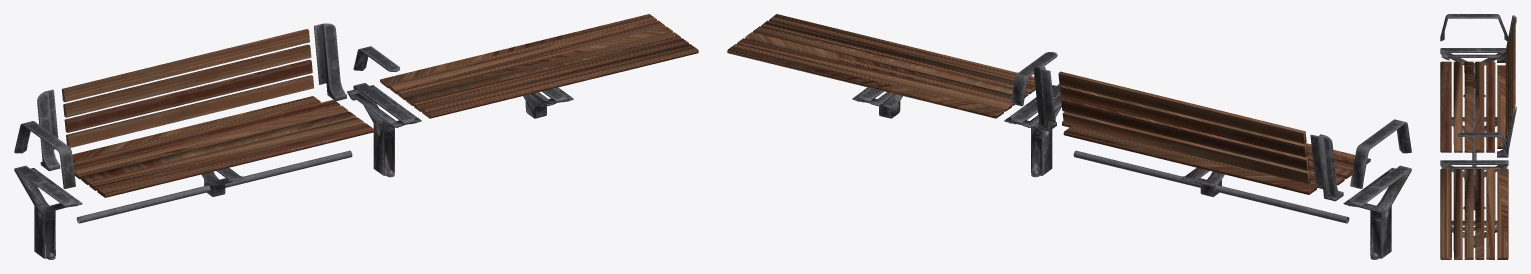
The model's file is street_seating.glb.
The picture shows the model from 3 angles, left to right: view 1: azimuth 30°, elevation 25°; view 2: azimuth 150°, elevation 25°; view 3: azimuth 270°, elevation 25°; orthographic projection. The views are drawn at different scales.
Parts seen in each view (by area): view 1: seat, seat_back, crossbar, legs_double; view 2: seat, seat_back, crossbar, legs_double; view 3: seat, legs_double, crossbar, seat_back.
Boxes of the visible parts, x1,y1,x2,y2 form: seat: (72, 14, 698, 197); seat_back: (62, 29, 313, 147); crossbar: (14, 23, 399, 223); legs_double: (14, 83, 573, 259); seat: (727, 14, 1370, 194); seat_back: (1058, 71, 1310, 183); crossbar: (1010, 52, 1411, 223); legs_double: (852, 84, 1411, 259); seat: (1440, 61, 1508, 259); legs_double: (1440, 48, 1508, 247); crossbar: (1440, 14, 1516, 174); seat_back: (1505, 23, 1515, 140).
Bounding box in the file's own units: 4.34 × 0.8668 × 0.6703.
Materials: 3 (3 with a texture image).
